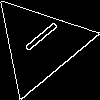I: (15, 19, 60, 60)
